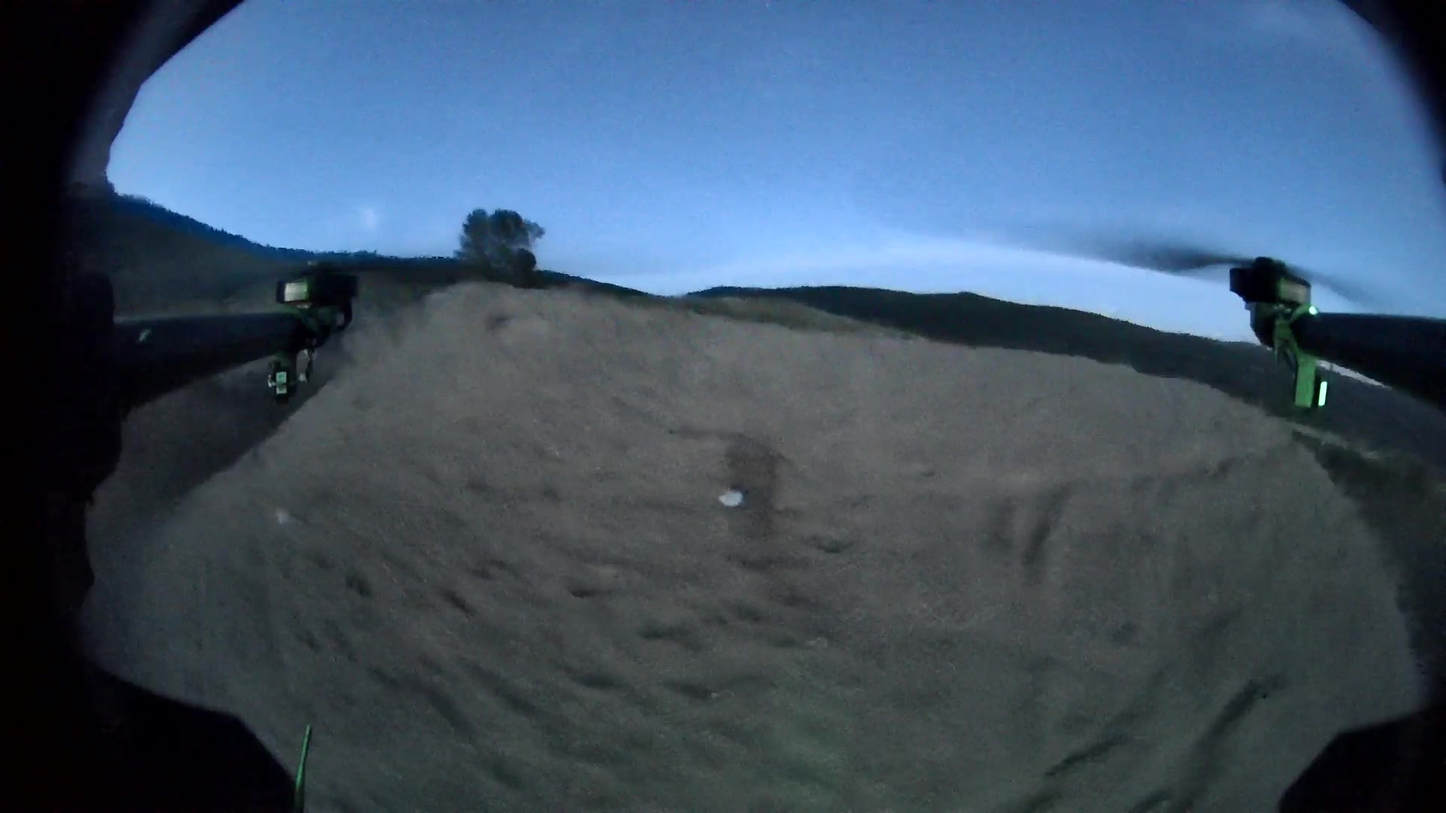Target: (716, 489, 744, 509)
